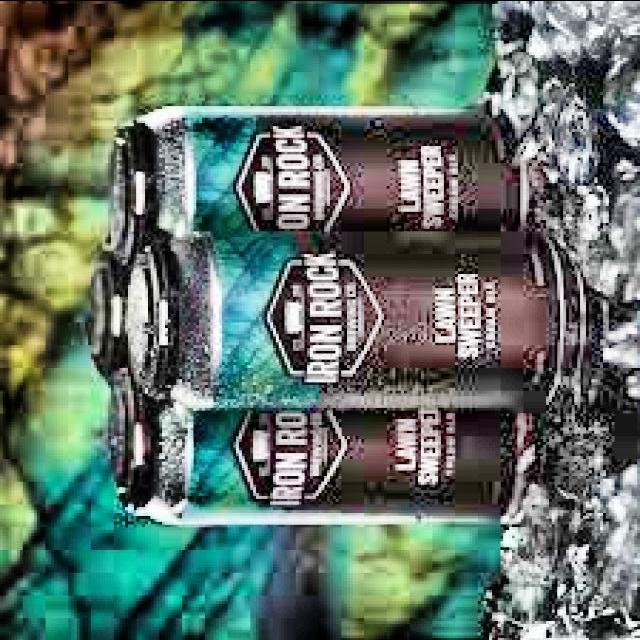Aluminum Can: (122, 229, 572, 404), (107, 360, 537, 528), (99, 101, 532, 262), (83, 237, 127, 394)
